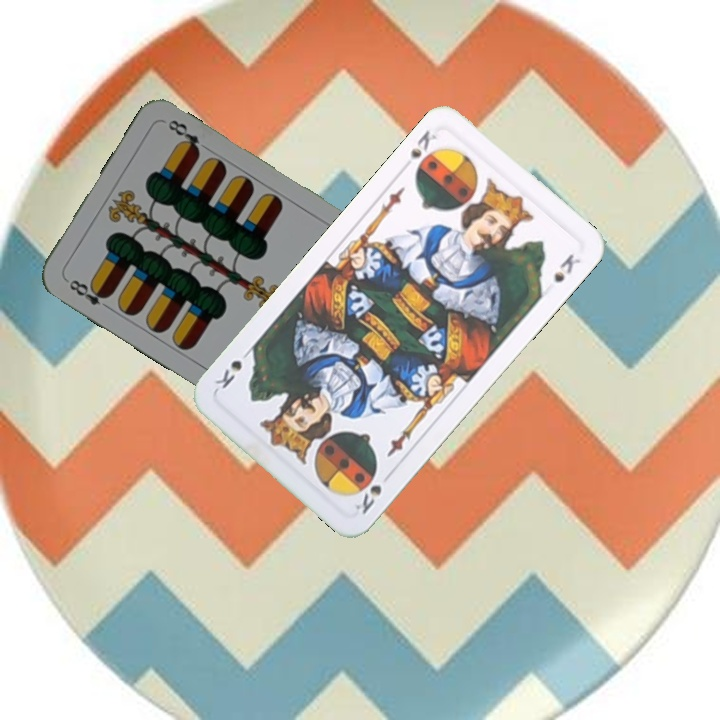E8: (62, 274, 114, 313)
SK: (351, 468, 395, 517), (406, 126, 439, 161)
